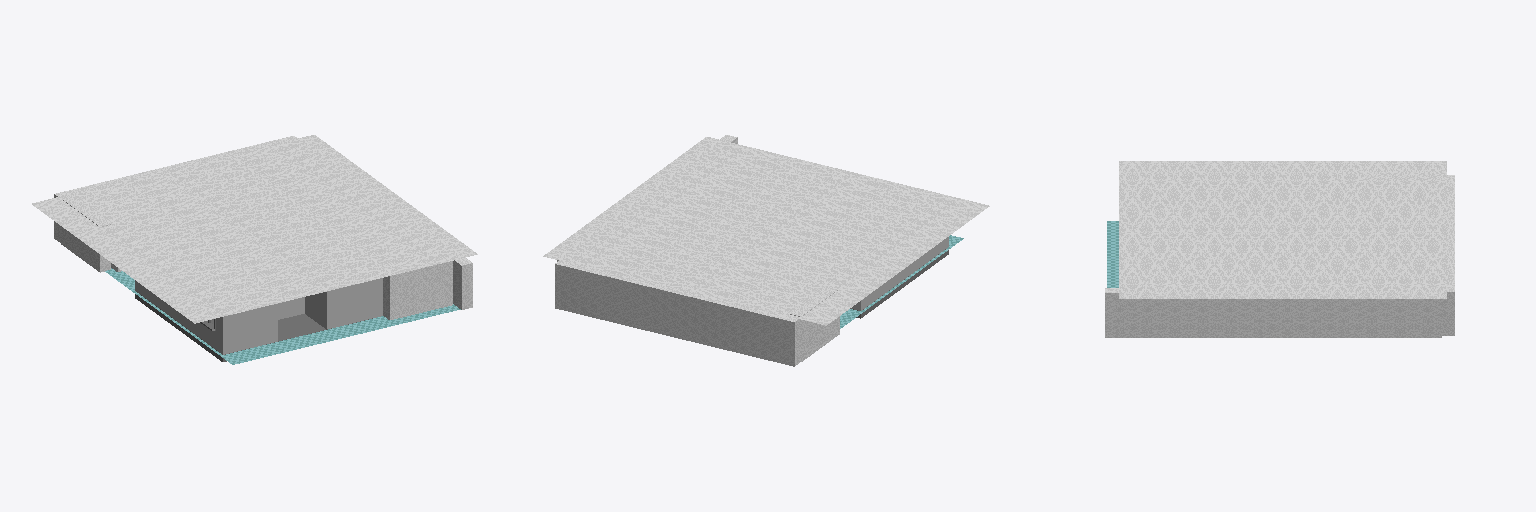
3 renders of one model, left to right at view 1: azimuth 30°, elevation 25°; view 2: azimuth 150°, elevation 25°; view 3: azimuth 270°, elevation 25°, orthographic.
Parts seen in each view (by area): view 1: Ceiling, testbuilding, Cube_(2), Floor, Cube_(1), Cube_(3), Cube.001; view 2: Ceiling, Cube_(3), Cube_(1), testbuilding, Floor; view 3: Ceiling, Cube.001, Cube_(3), Floor.
Boxes of the visible parts, x1,y1,x2,y2 form: Ceiling: [32, 135, 477, 323]; testbuilding: [135, 278, 382, 361]; Cube_(2): [383, 261, 452, 319]; Floor: [105, 268, 460, 364]; Cube_(1): [61, 196, 110, 272]; Cube_(3): [54, 136, 297, 242]; Cube.001: [453, 258, 472, 309]; Ceiling: [543, 137, 989, 325]; Cube_(3): [555, 261, 800, 366]; Cube_(1): [790, 285, 839, 361]; testbuilding: [850, 237, 948, 318]; Floor: [840, 235, 963, 328]; Ceiling: [1119, 161, 1446, 298]; Cube.001: [1105, 288, 1441, 337]; Cube_(3): [1442, 175, 1454, 335]; Floor: [1107, 221, 1118, 287].
Bounding box in the file's own units: 16.7 × 2.96 × 17.86.
Materials: 8 (3 with a texture image).